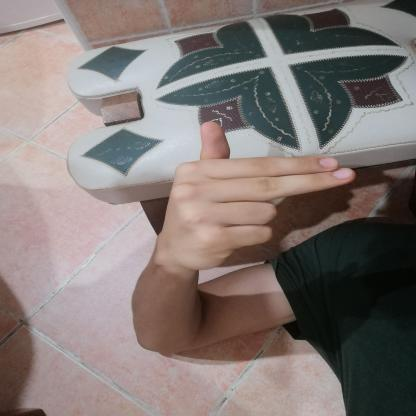GHAYN: (140, 111, 368, 281)
